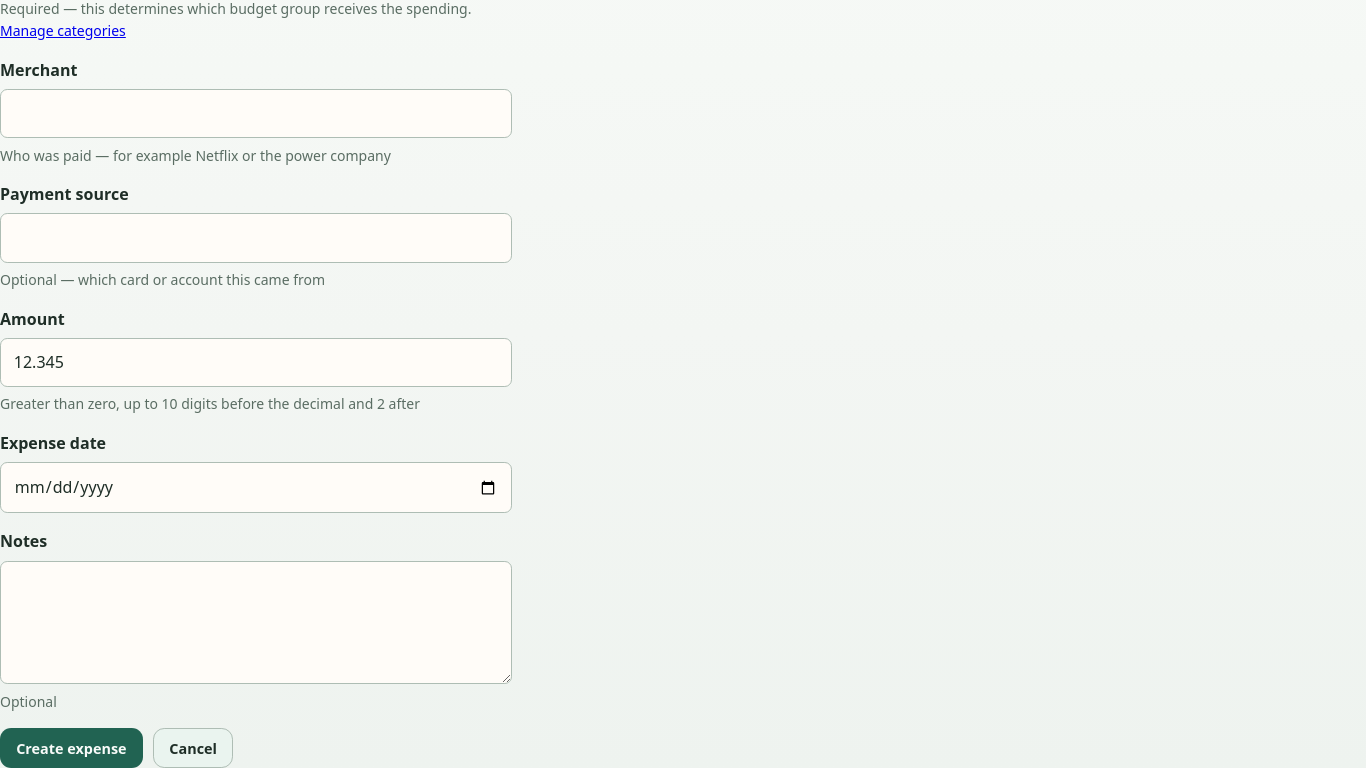
Test: ExpenseForm › rejects more than two decimal places
(page scrolled)
Click the button "Create expense". click: click(71, 748)
box: [0,728,143,767]
(page scrolled)
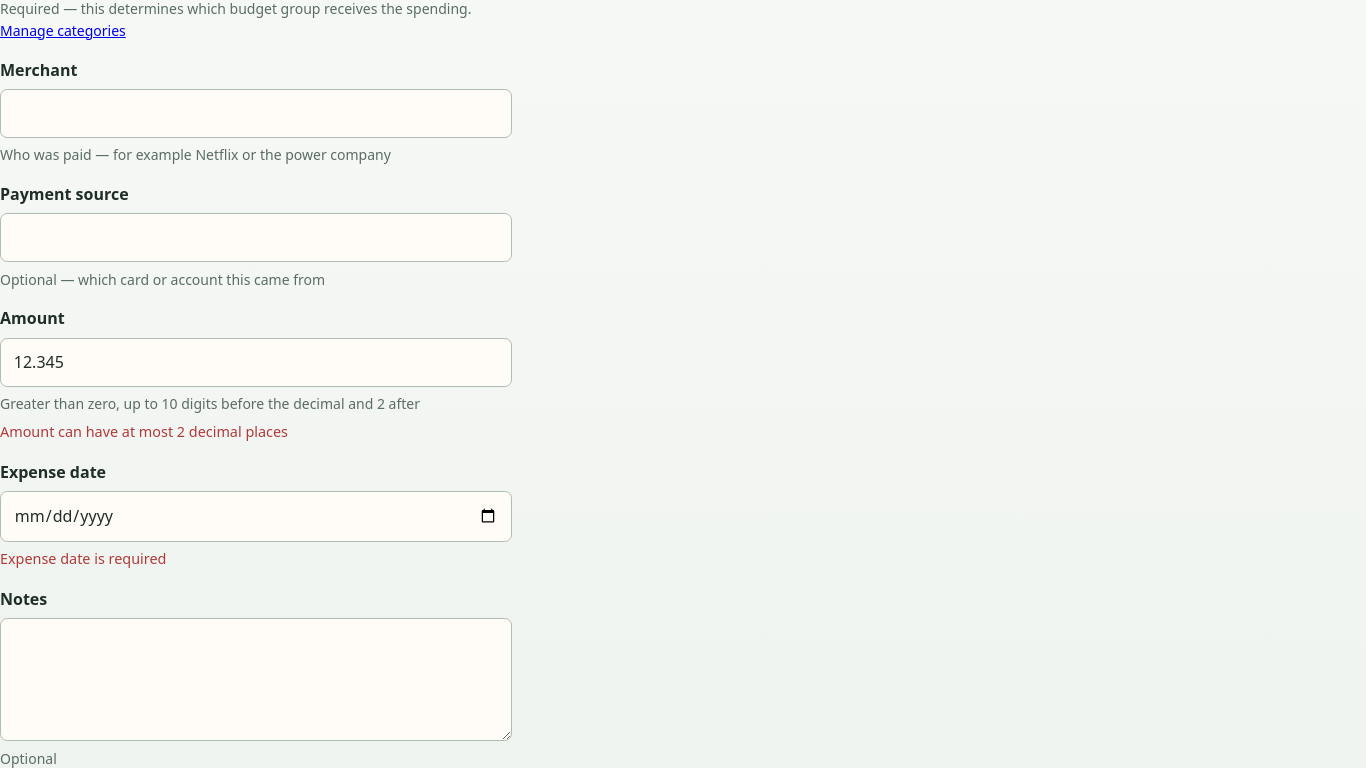
expect the text "Amount can have at most 2 decimal places" is shown: met, box [0,422,288,441]
